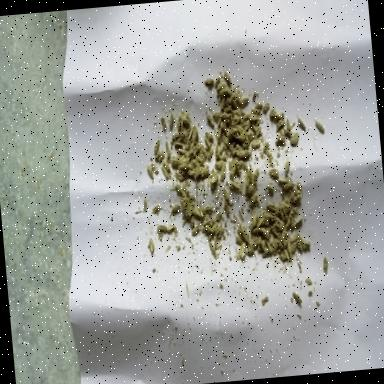pbw: (270, 107, 284, 120), (286, 118, 298, 133), (210, 242, 218, 262), (298, 118, 308, 134), (147, 163, 155, 183), (237, 243, 248, 257), (220, 164, 228, 183), (152, 140, 162, 154), (228, 168, 238, 182), (192, 140, 202, 154), (206, 147, 215, 162), (294, 218, 304, 231), (176, 116, 184, 132), (161, 165, 169, 181), (186, 169, 200, 178), (317, 120, 326, 134), (274, 139, 288, 148), (201, 166, 211, 178), (209, 173, 219, 185), (175, 172, 187, 182), (224, 72, 232, 86), (290, 135, 300, 146), (238, 96, 249, 106), (178, 162, 189, 172), (268, 168, 279, 178), (282, 182, 293, 192), (261, 228, 270, 240), (166, 142, 172, 160), (207, 113, 214, 128), (258, 214, 266, 227), (152, 162, 160, 175), (168, 113, 174, 130), (214, 160, 224, 170), (204, 77, 214, 87), (266, 203, 276, 213), (164, 162, 172, 174), (188, 126, 194, 142), (192, 224, 200, 236), (230, 98, 238, 110), (176, 188, 184, 200), (296, 240, 304, 252), (206, 132, 214, 144), (158, 150, 165, 163), (252, 211, 258, 226), (177, 133, 186, 143), (152, 204, 161, 214), (194, 155, 204, 164), (249, 114, 260, 122), (276, 216, 284, 227), (237, 151, 248, 159), (262, 104, 270, 115), (215, 83, 226, 91), (220, 88, 231, 96), (154, 151, 162, 162), (220, 96, 226, 110), (243, 232, 250, 244), (280, 228, 286, 242), (285, 220, 292, 232), (284, 160, 290, 174), (212, 112, 222, 120), (170, 133, 178, 143), (232, 180, 240, 190), (236, 124, 244, 134), (266, 184, 274, 194), (172, 158, 180, 168), (172, 204, 180, 214), (194, 207, 202, 217), (300, 238, 306, 250), (251, 228, 260, 236), (278, 176, 287, 184), (186, 149, 194, 158), (204, 205, 212, 214), (208, 226, 215, 236), (219, 144, 226, 154), (248, 183, 255, 193), (283, 208, 288, 221), (158, 225, 166, 233), (252, 140, 260, 148), (162, 117, 166, 133), (166, 225, 174, 233), (262, 143, 269, 152), (236, 235, 243, 244), (267, 241, 272, 253), (244, 120, 250, 130), (216, 212, 222, 222), (225, 190, 230, 202), (226, 128, 231, 138), (284, 252, 290, 260), (207, 138, 211, 148), (180, 149, 186, 155), (224, 113, 231, 118)
